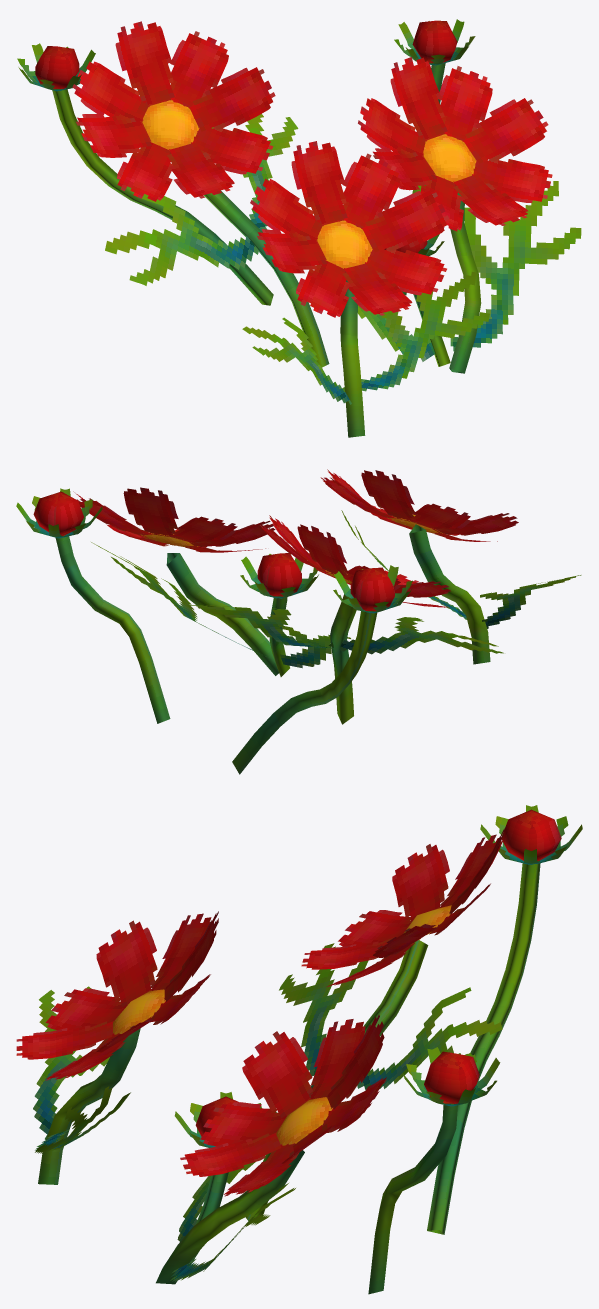
File: red-cosmos.glb
3 renders of one model, top to bottom at view 1: azimuth 30°, elevation 25°; view 2: azimuth 150°, elevation 25°; view 3: azimuth 270°, elevation 25°, orthographic. The views are drawn at different scales.
Bounding box in the file's own units: 10.23 × 6.53 × 9.6.
Materials: 2 (2 with a texture image).
